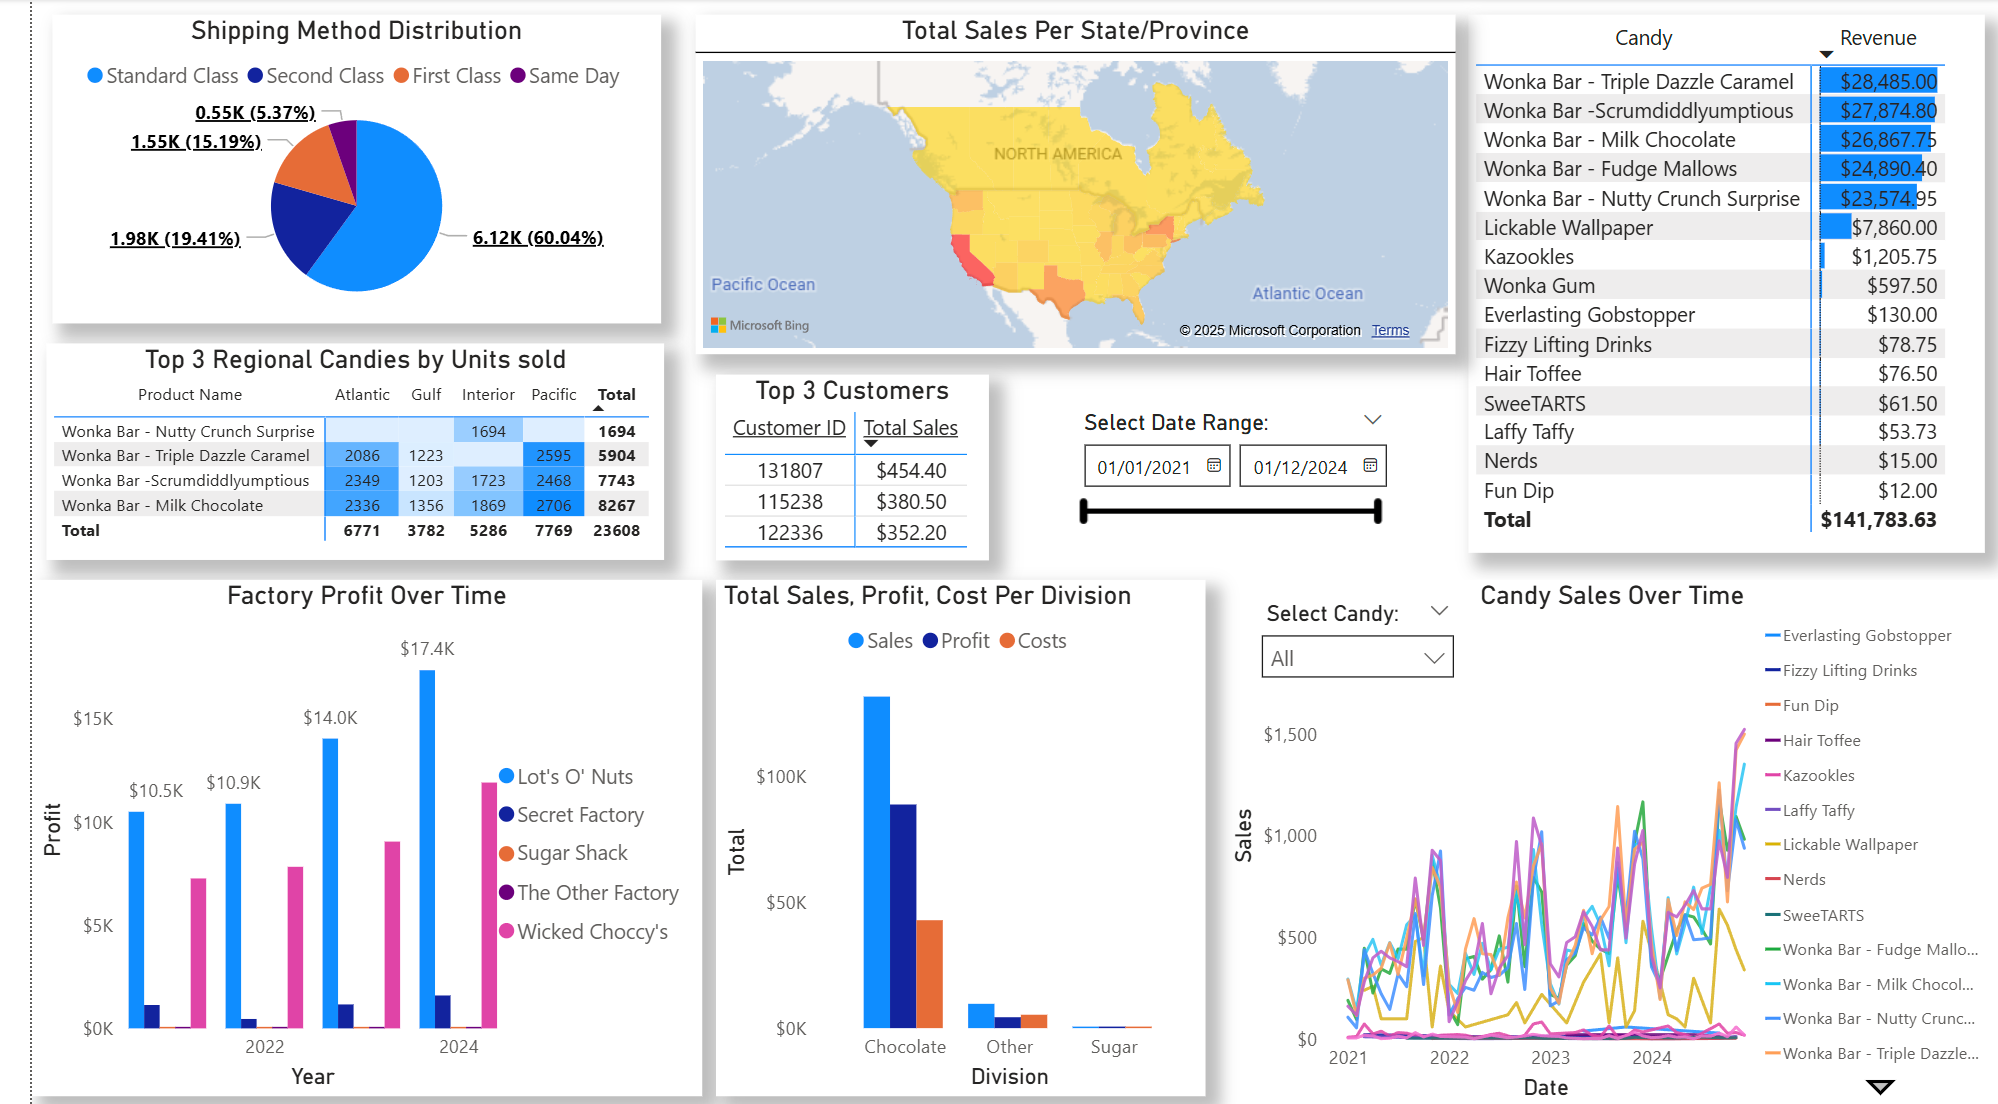

Layout of this report page (visuals, bound fields, positions):
{"tool":"powerbi","page":{"name":"Page 1","canvas":[1280,720],"ordinal":0},"visuals":[{"type":"pieChart","title":"Shipping Method Distribution","fields":{"Y":["Sum(public shipping_mode_count.count)"],"Category":["public shipping_mode_count.Ship Mode"]},"box":[13.3,10.1,395.6,200.5],"z":0},{"type":"pivotTable","title":"Top 3 Regional Candies by Units sold","fields":{"Rows":["public top3_region.Product Name"],"Columns":["public top3_region.Region"],"Values":["Sum(public top3_region.units)"]},"box":[9.4,224,401.9,141.2],"z":1000},{"type":"pivotTable","title":"Total Sales Per Candy","fields":{"Rows":["public month_sales_candy (2).candy"],"Values":["Sum(public month_sales_candy (2).total_sales)"]},"box":[934.1,10.1,335.5,349.6],"z":2000},{"type":"lineChart","title":"Candy Sales Over Time","fields":{"Y":["Sum(public month_sales_candy (2).total_sales)"],"Series":["public month_sales_candy (2).candy"],"Category":["public month_sales_candy (2).year_mon"]},"box":[774.9,377.7,505.7,342.6],"z":3000},{"type":"slicer","fields":{"Values":["public month_sales_candy (2).candy"]},"box":[789.3,386.3,144.7,61],"z":4000},{"type":"slicer","fields":{"Values":["public month_sales_candy (2).year_mon"]},"box":[671.4,262.6,219.9,86.1],"z":5000},{"type":"clusteredColumnChart","title":"Factory Profit Over Time","fields":{"Series":["public factory_candy_sales.Factory"],"Category":["public factory_candy_sales.year_mon.Variation.Date Hierarchy.Year","public factory_candy_sales.year_mon.Variation.Date Hierarchy.Quarter","public factory_candy_sales.year_mon.Variation.Date Hierarchy.Month"],"Y":["Sum(public factory_candy_sales.profit)"]},"box":[0,377.7,435.4,335.5],"z":6000},{"type":"filledMap","title":"Total Sales Per State/Province","fields":{"Category":["public candy_sales_per_state.State/Province"]},"box":[431.5,10,494.2,220.7],"z":7000},{"type":"tableEx","title":"Top 3 Customers","fields":{"Values":["public top_customers.Customer ID","Sum(public top_customers.total_sales)"]},"box":[444.8,244.2,177.3,121.2],"z":8000},{"type":"clusteredColumnChart","title":"Total Sales, Profit, Cost Per Division ","fields":{"Category":["public month_sales_division.Division"],"Y":["Sum(public month_sales_division.total_sales)","Sum(public month_sales_division.profit)","Sum(public month_sales_division.costs)"]},"box":[444.8,377.7,318.4,335.5],"z":9000}]}

Visuals, with their boxes in screenshot pixels (x1, y1, x2, y2), scaled from the page's 1280x720 canvas onto the 1998x1104 screenshot:
"Shipping Method Distribution" pieChart: {"x1": 21, "y1": 15, "x2": 638, "y2": 323}
"Top 3 Regional Candies by Units sold" pivotTable: {"x1": 15, "y1": 343, "x2": 642, "y2": 560}
"Total Sales Per Candy" pivotTable: {"x1": 1458, "y1": 15, "x2": 1982, "y2": 552}
"Candy Sales Over Time" lineChart: {"x1": 1210, "y1": 579, "x2": 1997, "y2": 1103}
slicer - public month_sales_candy (2).candy: {"x1": 1232, "y1": 592, "x2": 1458, "y2": 686}
slicer - public month_sales_candy (2).year_mon: {"x1": 1048, "y1": 403, "x2": 1391, "y2": 535}
"Factory Profit Over Time" clusteredColumnChart: {"x1": 0, "y1": 579, "x2": 680, "y2": 1094}
"Total Sales Per State/Province" filledMap: {"x1": 674, "y1": 15, "x2": 1445, "y2": 354}
"Top 3 Customers" tableEx: {"x1": 694, "y1": 374, "x2": 971, "y2": 560}
"Total Sales, Profit, Cost Per Division " clusteredColumnChart: {"x1": 694, "y1": 579, "x2": 1191, "y2": 1094}
